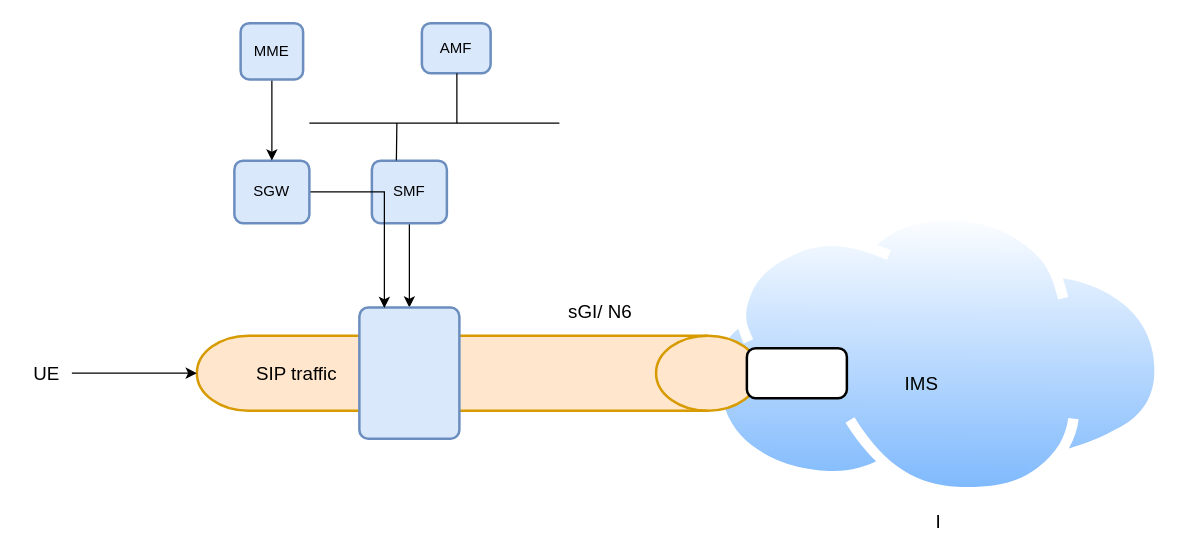
Some shapes in this 1188 by 554 pixel diagram are drawn without their labels. Each missing label, with the centre of its shape:
"P CSCF/ SBC" goes at pixel 796 372.
"UPF" goes at pixel 409 372.
